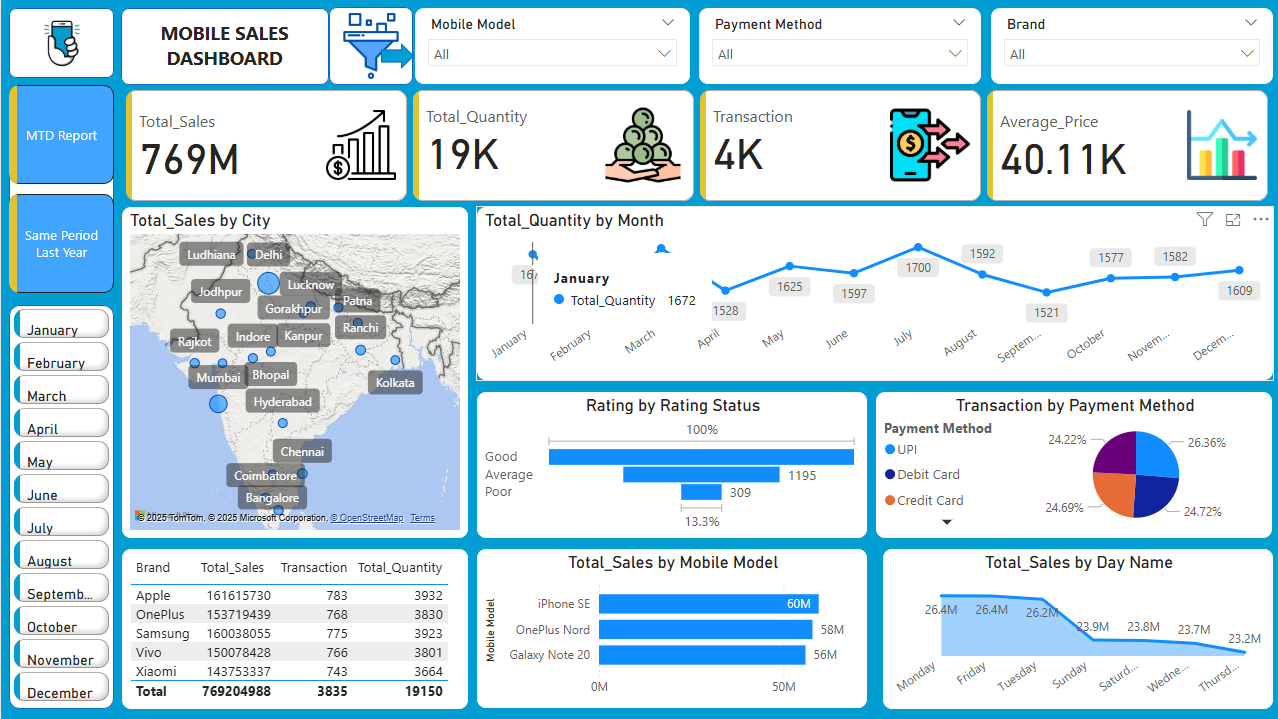

The dashboard page shown, as its layout file describes it:
{"tool":"powerbi","page":{"name":"Dashboard","canvas":[1280,720],"ordinal":0},"visuals":[{"type":"shape","box":[8.2,8.2,104.5,70],"z":0},{"type":"image","box":[8.2,8.2,104.5,70],"z":1000},{"type":"shape","box":[7.7,84.9,105.2,208.5],"z":2000},{"type":"shape","box":[8.2,304.5,104.5,404.5],"z":3000},{"type":"advancedSlicerVisual","fields":{"Values":["Custom_Calendar.Date.Variation.Date Hierarchy.Month"]},"box":[7.7,304.1,105.2,405.4],"z":4000},{"type":"cardVisual","fields":{"Data":["Sales_Data.Total_Sales","Sales_Data.Total_Quantity","Sales_Data.Transaction","Sales_Data.Average_Price"]},"box":[120,85,1153,121],"z":5000},{"type":"slicer","fields":{"Values":["Sales_Data.Mobile Model"]},"box":[413,7,277,78],"z":6000},{"type":"slicer","fields":{"Values":["Sales_Data.Payment Method"]},"box":[697,7,284,78],"z":7000},{"type":"slicer","fields":{"Values":["Sales_Data.Brand"]},"box":[989,7,284,78],"z":8000},{"type":"shape","box":[328,7,84,78],"z":9000},{"type":"image","box":[328,7,84,78],"z":10000},{"type":"shape","box":[380,43,33,26],"z":11000},{"type":"shape","box":[120,8,208,77],"z":12000},{"type":"textbox","box":[126,15,195,63],"z":13000},{"type":"map","fields":{"Category":["Sales_Data.City"],"Size":["Sales_Data.Total_Sales"]},"box":[119.7,205.6,348.5,333],"z":14000},{"type":"lineChart","fields":{"Category":["Custom_Calendar.Date.Variation.Date Hierarchy.Month"],"Y":["Sales_Data.Total_Quantity"]},"box":[474.9,205.6,798.3,175.7],"z":15000},{"type":"funnel","title":"Rating by Rating Status","fields":{"Y":["CountNonNull(Sales_Data.Customer Ratings)"],"Category":["Sales_Data.Rating Status"]},"box":[474.9,391,391.9,147.7],"z":16000},{"type":"pieChart","fields":{"Y":["Sales_Data.Transaction"],"Category":["Sales_Data.Payment Method"]},"box":[873.6,391,398.7,147.7],"z":17000},{"type":"clusteredBarChart","fields":{"Y":["Sales_Data.Total_Sales"],"Category":["Sales_Data.Mobile Model"]},"box":[474.9,548.3,391.9,160.2],"z":18000},{"type":"areaChart","fields":{"Y":["Sales_Data.Total_Sales"],"Category":["Custom_Calendar.Day Name"]},"box":[881.3,548.3,391.9,162.2],"z":19000},{"type":"tableEx","fields":{"Values":["Sales_Data.Brand","Sales_Data.Total_Sales","Sales_Data.Transaction","Sales_Data.Total_Quantity"]},"box":[119.7,548.3,348.5,162.2],"z":20000},{"type":"pageNavigator","box":[7.7,84.9,105.2,208.5],"z":20001}]}

Visuals, with their boxes in screenshot pixels (x1, y1, x2, y2), scaled from the page's 1280x720 canvas onto the 1278x719 screenshot:
shape: x1=8 y1=8 x2=113 y2=78
image: x1=8 y1=8 x2=113 y2=78
shape: x1=8 y1=85 x2=113 y2=293
shape: x1=8 y1=304 x2=113 y2=708
advancedSlicerVisual - Custom_Calendar.Date.Variation.Date Hierarchy.Month: x1=8 y1=304 x2=113 y2=709
cardVisual - Sales_Data.Total_Sales x Sales_Data.Total_Quantity: x1=120 y1=85 x2=1271 y2=206
slicer - Sales_Data.Mobile Model: x1=412 y1=7 x2=689 y2=85
slicer - Sales_Data.Payment Method: x1=696 y1=7 x2=979 y2=85
slicer - Sales_Data.Brand: x1=987 y1=7 x2=1271 y2=85
shape: x1=327 y1=7 x2=411 y2=85
image: x1=327 y1=7 x2=411 y2=85
shape: x1=379 y1=43 x2=412 y2=69
shape: x1=120 y1=8 x2=327 y2=85
textbox: x1=126 y1=15 x2=320 y2=78
map - Sales_Data.City x Sales_Data.Total_Sales: x1=120 y1=205 x2=467 y2=538
lineChart - Custom_Calendar.Date.Variation.Date Hierarchy.Month x Sales_Data.Total_Quantity: x1=474 y1=205 x2=1271 y2=381
"Rating by Rating Status" funnel: x1=474 y1=390 x2=865 y2=538
pieChart - Sales_Data.Transaction x Sales_Data.Payment Method: x1=872 y1=390 x2=1270 y2=538
clusteredBarChart - Sales_Data.Total_Sales x Sales_Data.Mobile Model: x1=474 y1=548 x2=865 y2=708
areaChart - Sales_Data.Total_Sales x Custom_Calendar.Day Name: x1=880 y1=548 x2=1271 y2=710
tableEx - Sales_Data.Brand x Sales_Data.Total_Sales: x1=120 y1=548 x2=467 y2=710
pageNavigator: x1=8 y1=85 x2=113 y2=293
